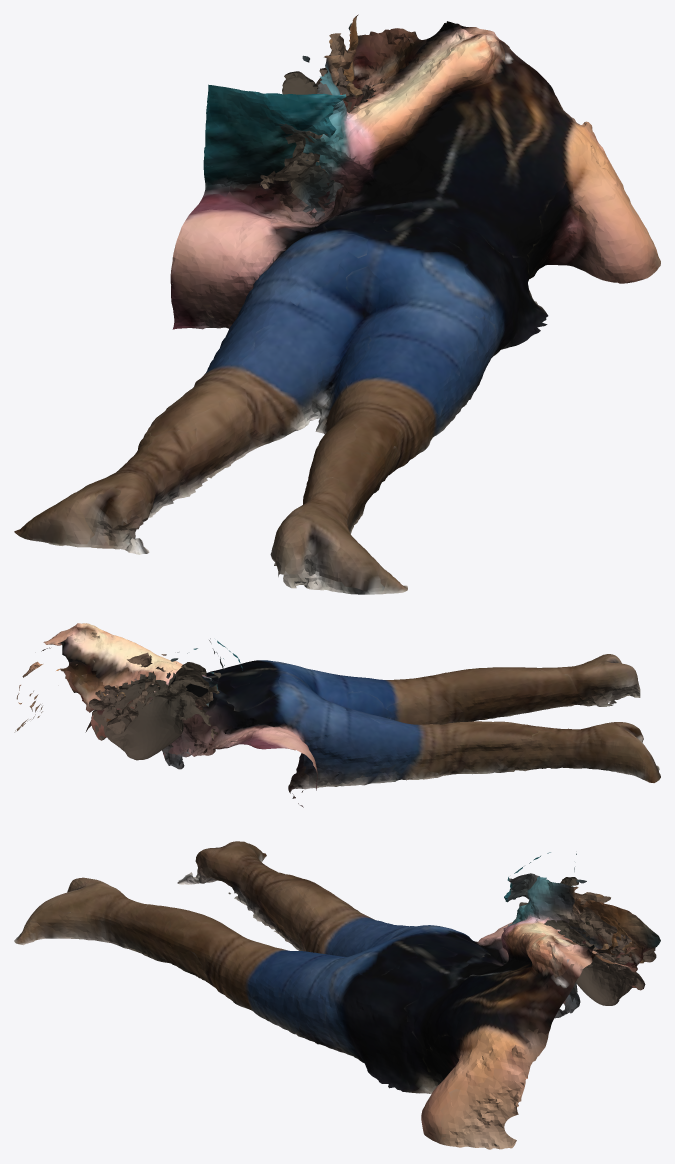
The picture shows the model from 3 angles, top to bottom: view 1: azimuth 30°, elevation 25°; view 2: azimuth 150°, elevation 25°; view 3: azimuth 270°, elevation 25°; orthographic projection. The views are drawn at different scales.
Size of the model in its own units: 1.43 by 0.3636 by 1.32.
1 material, 1 textured.
